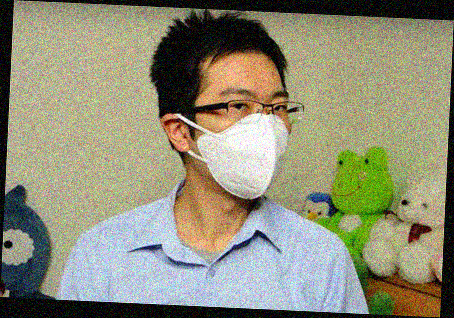with_mask: (193, 84, 292, 202)
